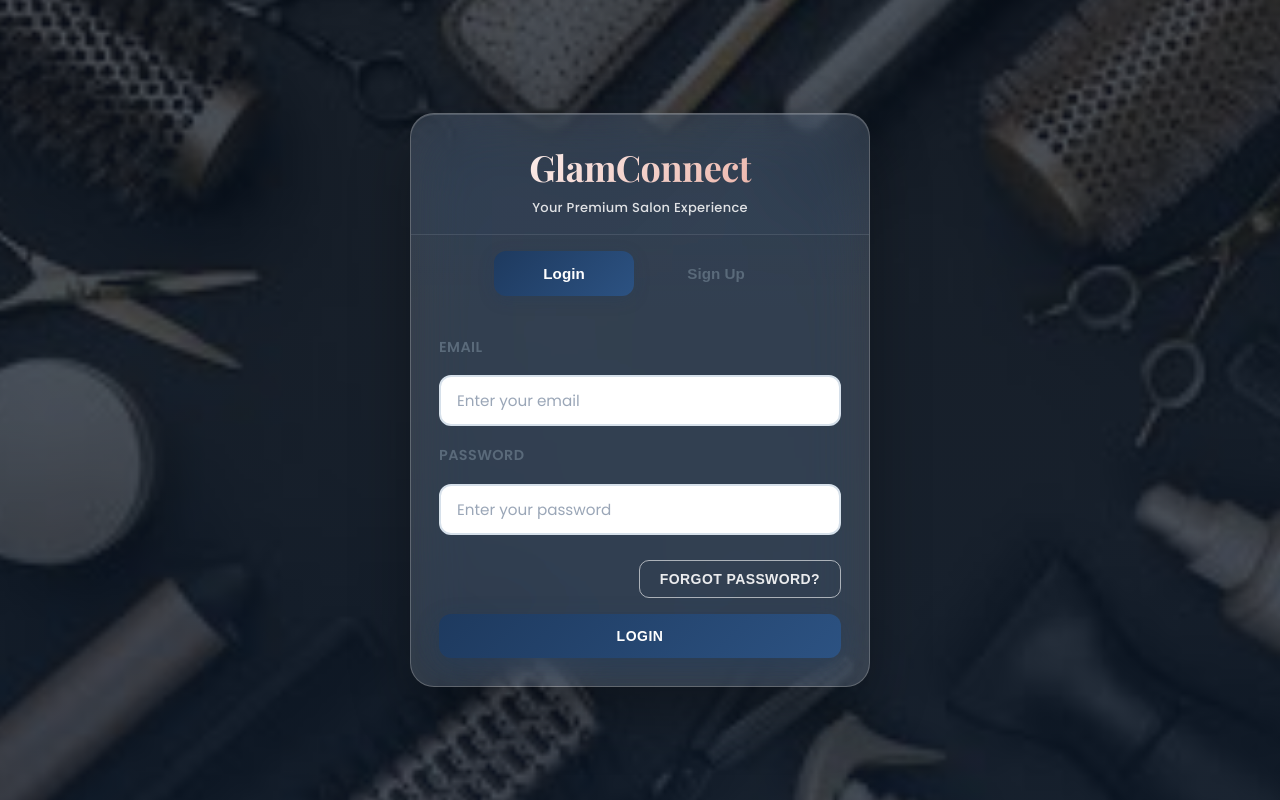
Auth screen › Signup form › shows "Passwords do not match" error
The width and height of the screenshot is (1280, 800).
Step 1. Click the button "Sign Up" → (716, 274), box [646,251,786,296]
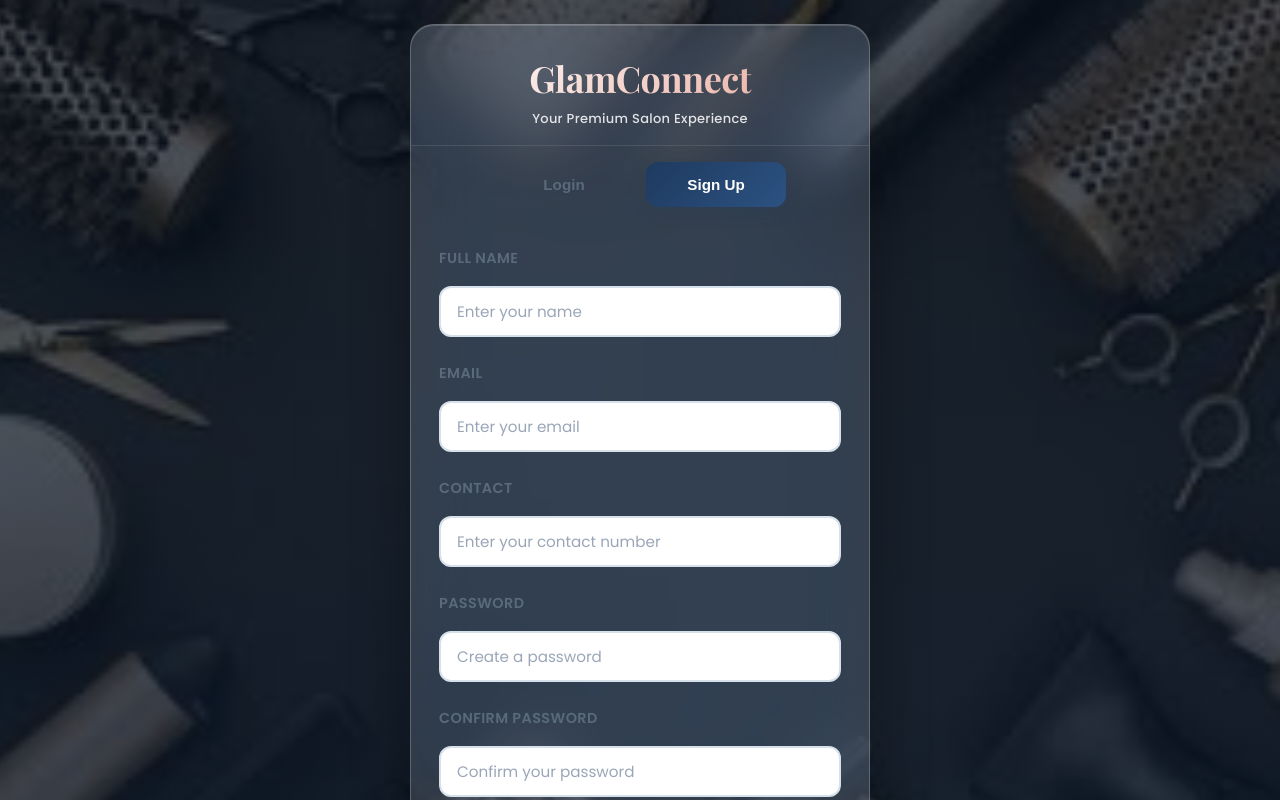
Step 2. Type "Jane" into the field with placeholder "Enter your name" → (640, 312), box [439,286,841,337]
Step 3. Type "jane@test.com" into the field with placeholder "Enter your email" → (640, 427), box [439,401,841,452]
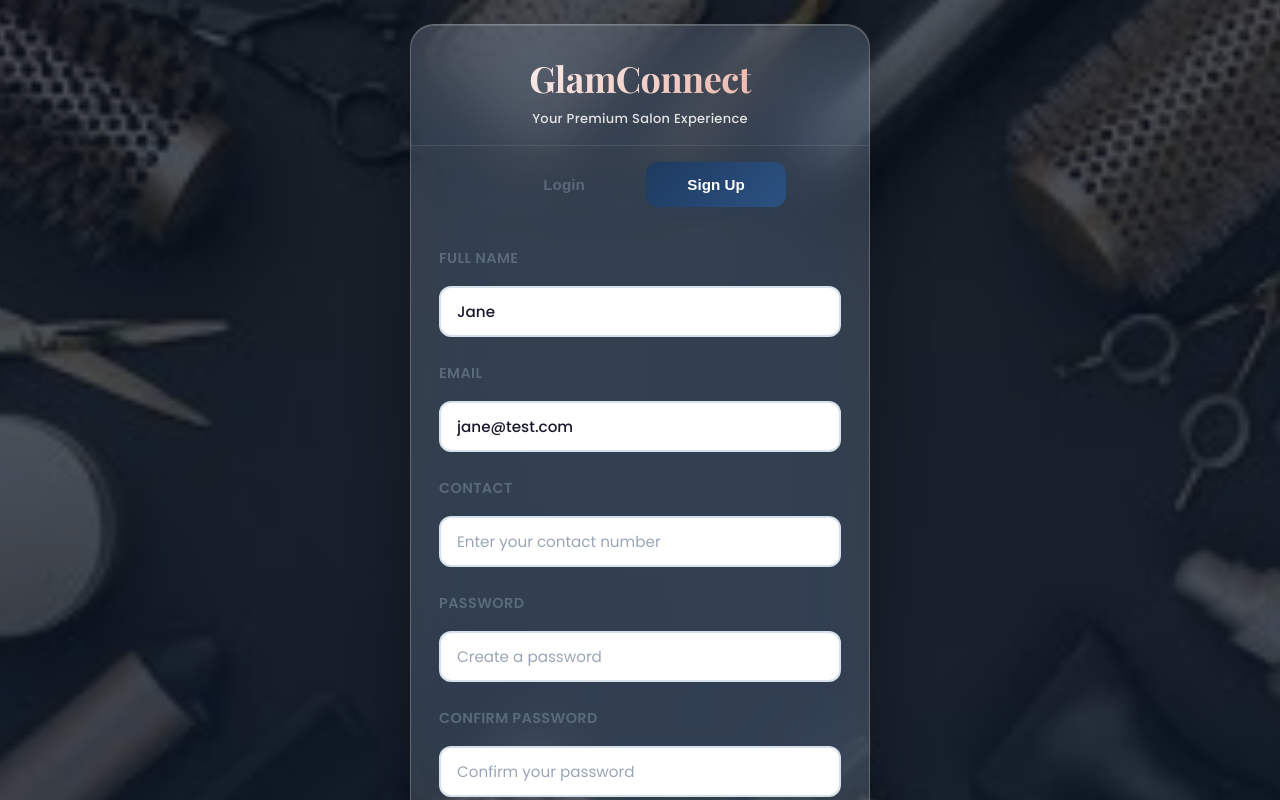
Step 4. Type "1234567890" into the field with placeholder "Enter your contact number" → (640, 542), box [439,516,841,567]
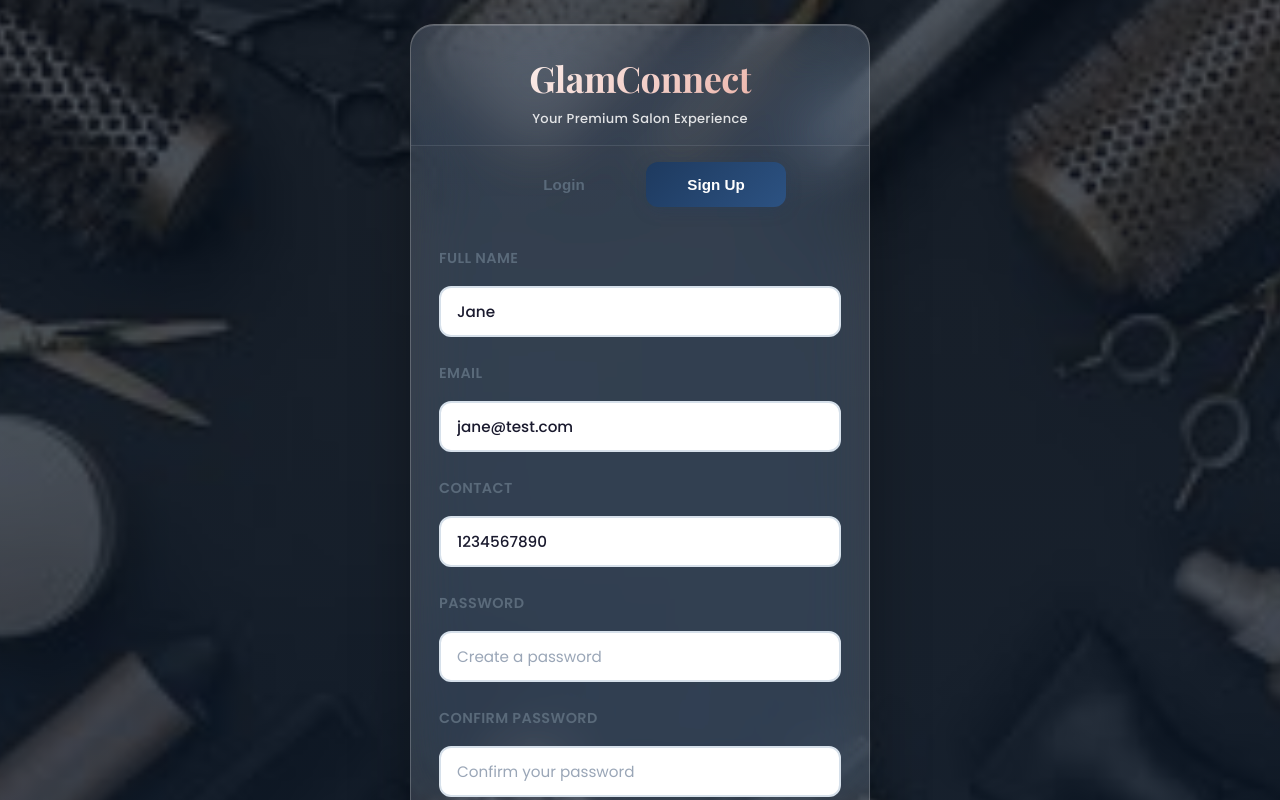
Step 5. Type "pass1" into the password field with placeholder "Create a password" → (640, 657), box [439,631,841,682]
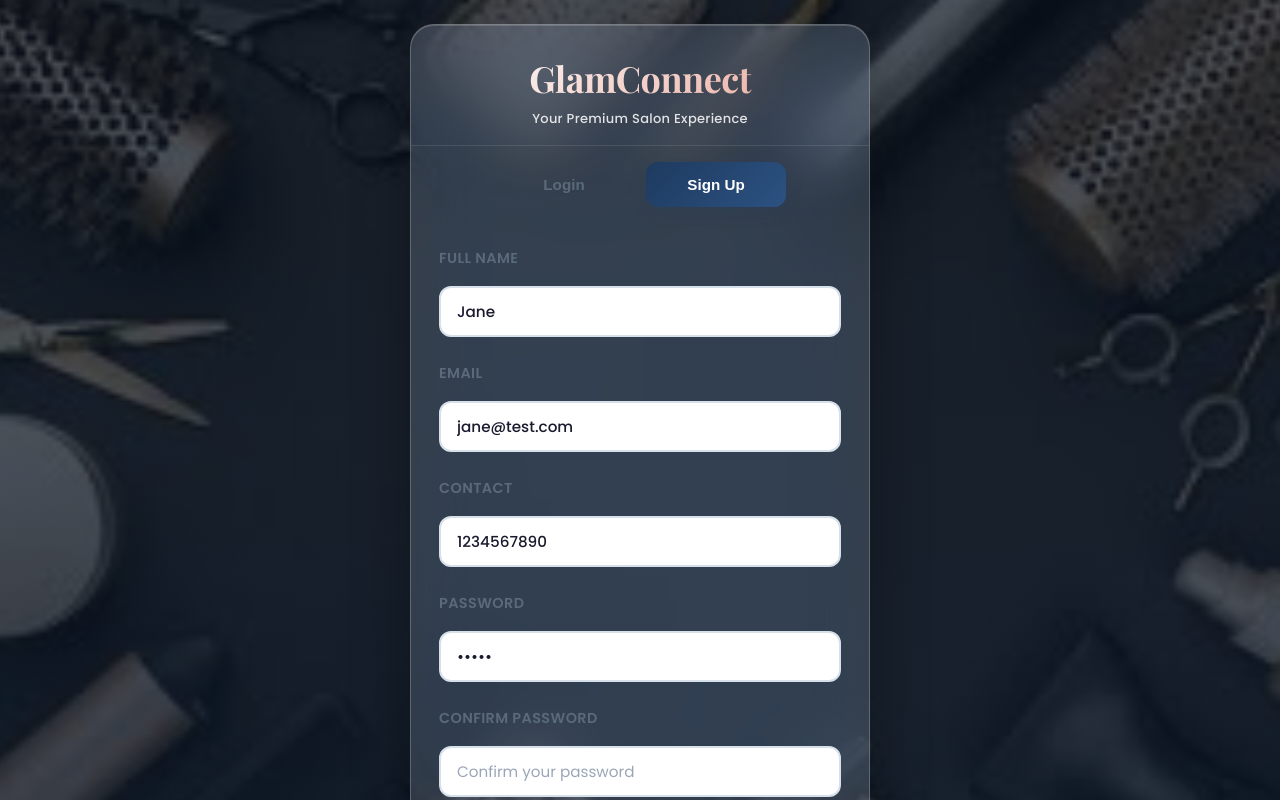
Step 6. Type "pass2" into the password field with placeholder "Confirm your password" → (640, 772), box [439,746,841,797]
(page scrolled)
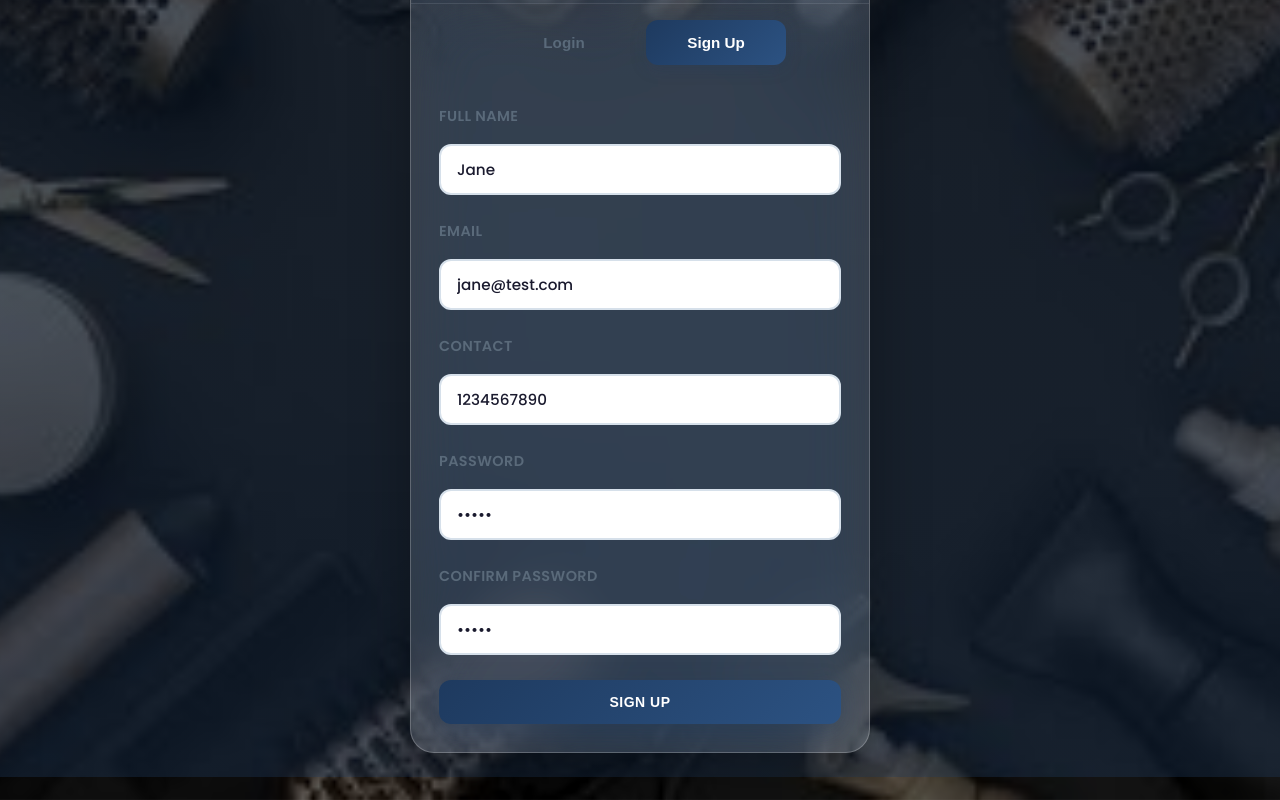
Step 7. Submit the form, box [411,81,869,752]
(page scrolled)
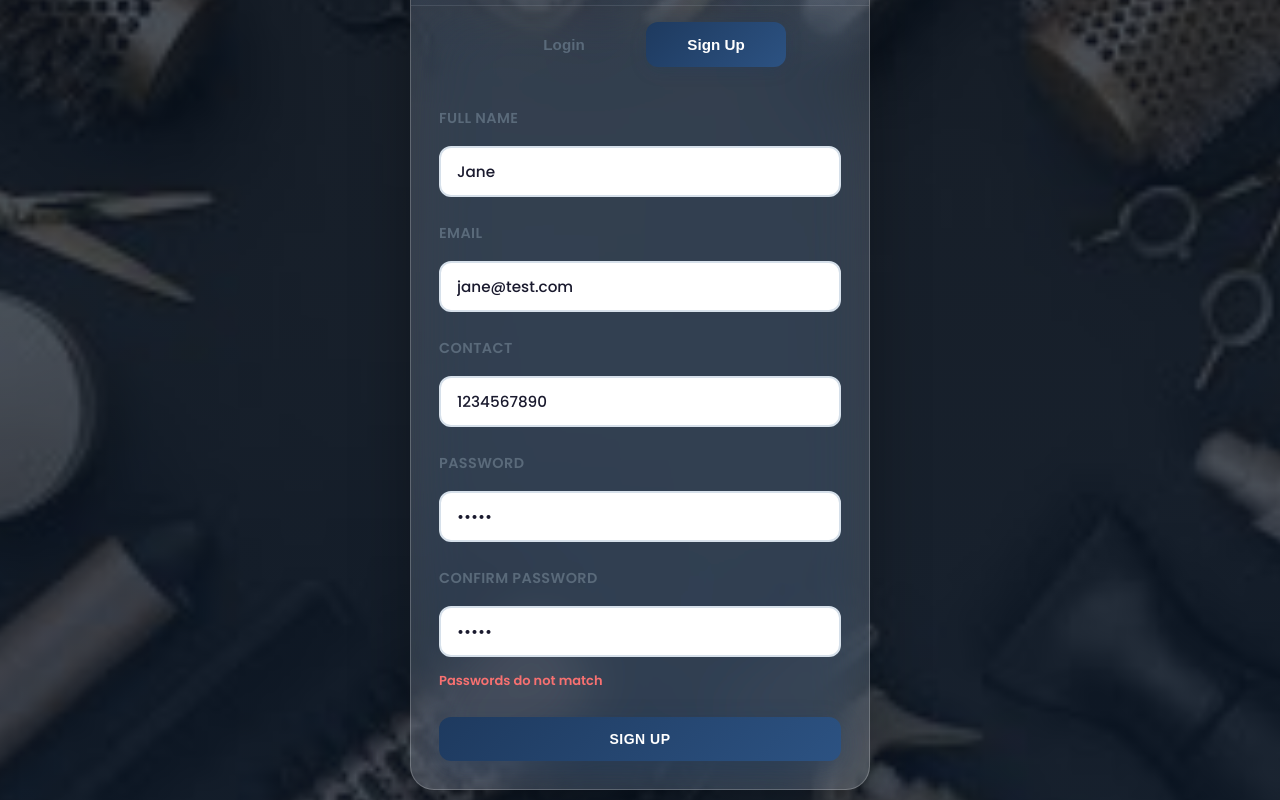
Expected: the text "Passwords do not match" is shown, [439,671,602,690]
